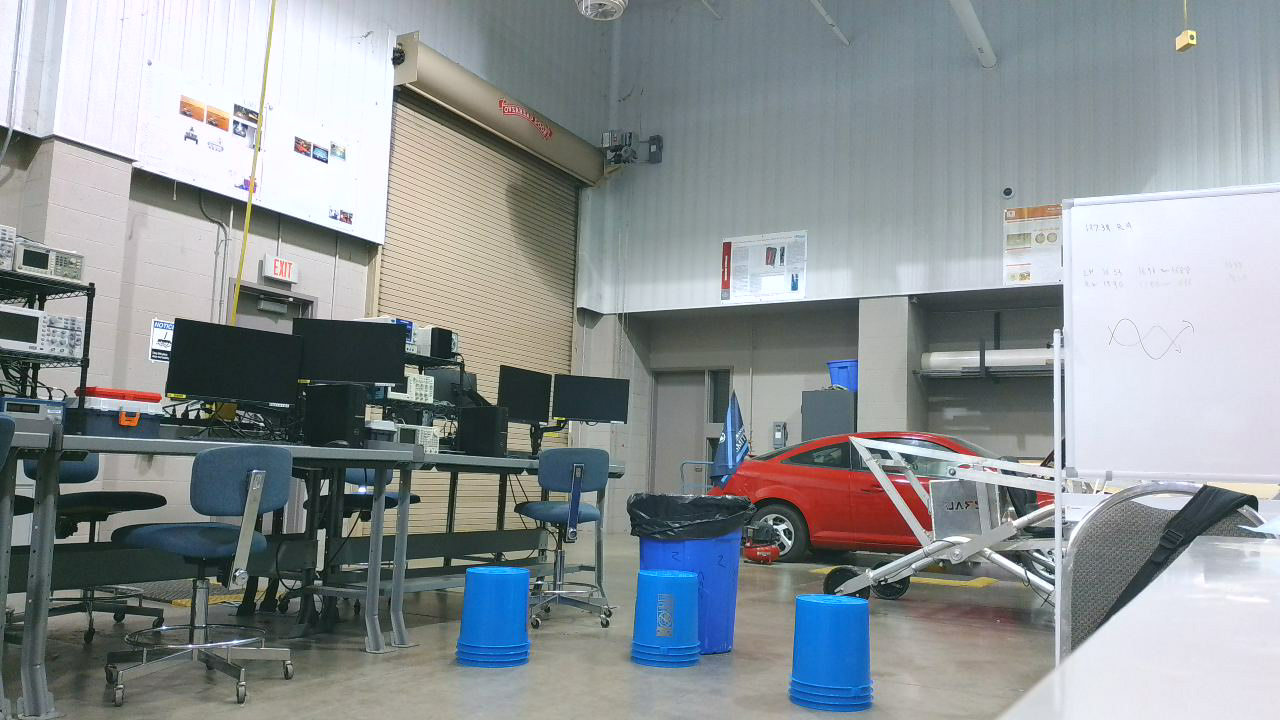blue_bucket: (792, 601, 881, 716), (461, 571, 537, 673), (637, 575, 707, 673)
